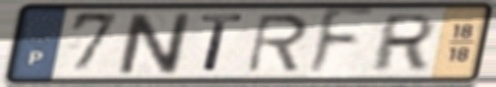7: (67, 10, 125, 77)
F: (303, 6, 379, 81)
N: (116, 11, 193, 76)
R: (367, 12, 440, 74), (244, 11, 312, 75)
T: (198, 12, 246, 75)
